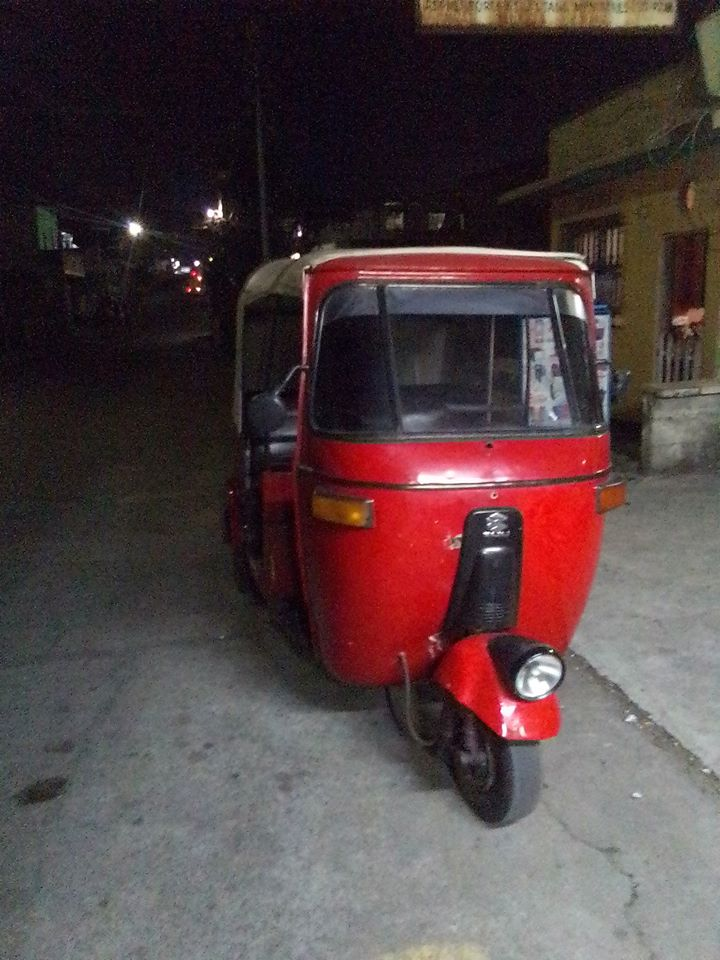mototaxi: (208, 240, 633, 837)
